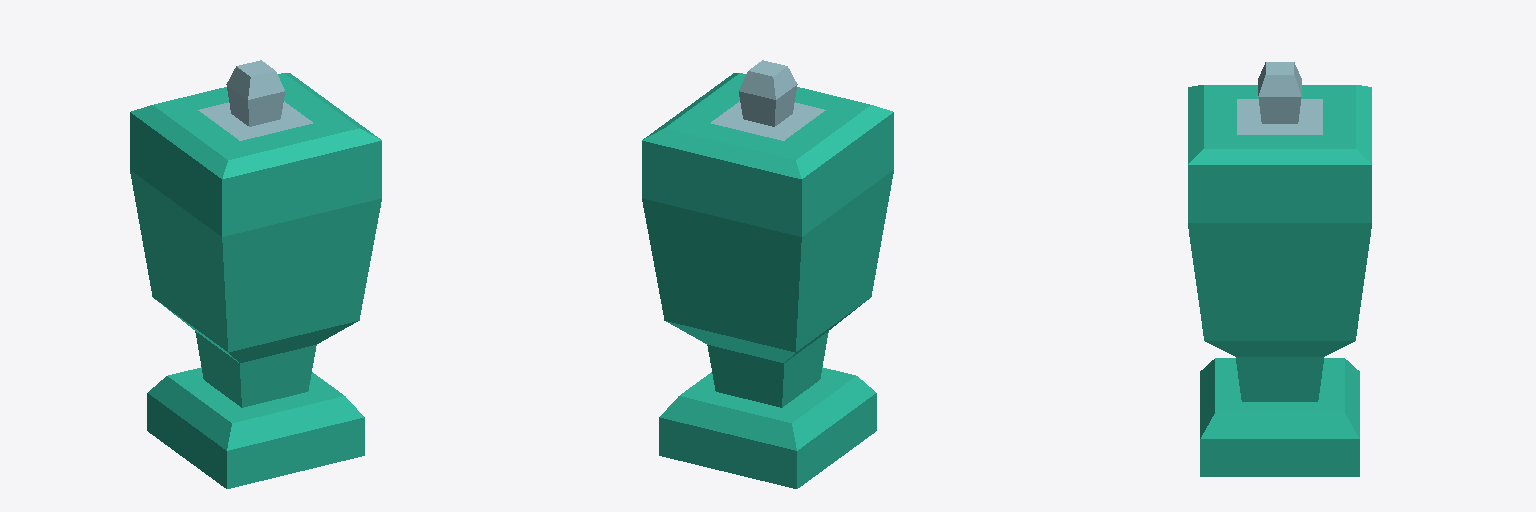
The model's file is urn.obj.
The picture shows the model from 3 angles: view 1: azimuth 30°, elevation 25°; view 2: azimuth 150°, elevation 25°; view 3: azimuth 270°, elevation 25°; orthographic projection.
Visible parts, largest first — view 1: urn, lid; view 2: urn, lid; view 3: urn, lid.
Part boxes in pixels (x1,y1,x2,y2): urn: (130,132,381,488); lid: (130,60,381,198); urn: (642,132,893,488); lid: (642,60,893,198); urn: (1188,184,1371,476); lid: (1188,62,1371,183).
Bounding box in the file's own units: 0.1742 × 0.39 × 0.1742.